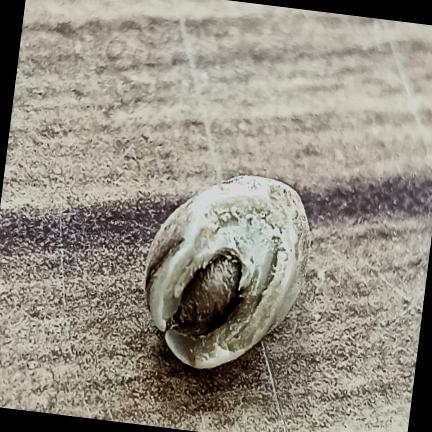broken: (144, 175, 309, 368)
